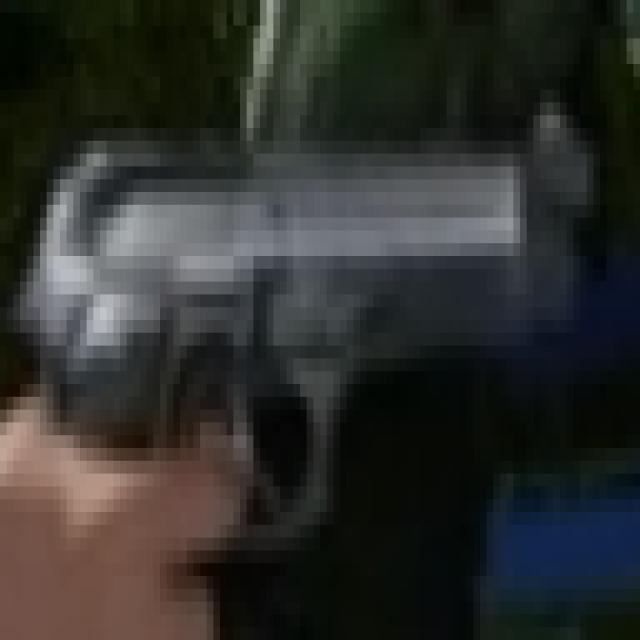FPistol: (24, 102, 594, 639)
